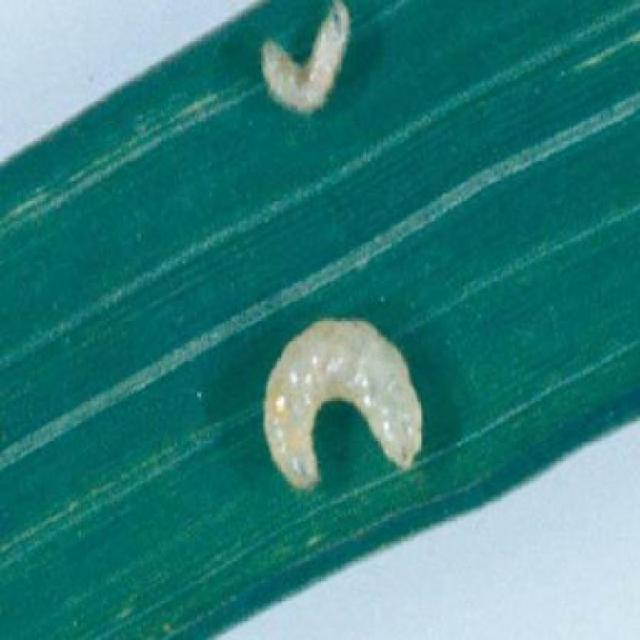whorl-maggot: (249, 313, 436, 498), (254, 0, 368, 123)
